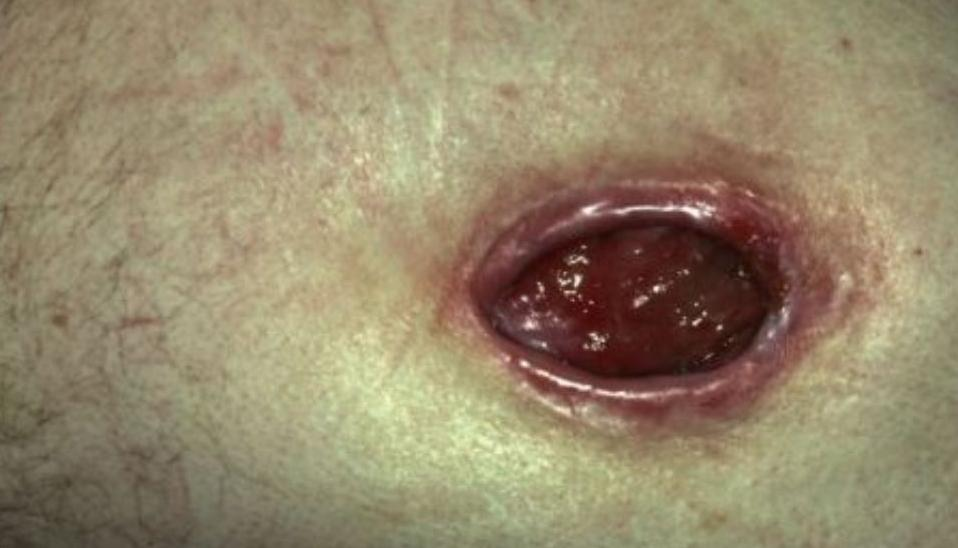Stage2: (421, 107, 825, 467)
